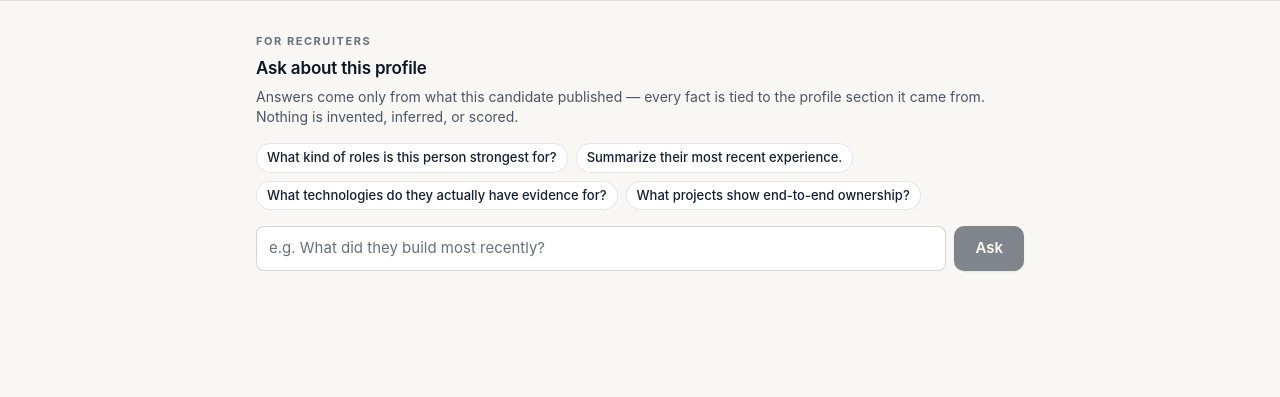
it: RecruiterAsk component › shows suggested questions, accepts one, and cites the sections used
Click the button "What kind of roles is this person strongest for?" at (412,158), box [256,143,568,172]
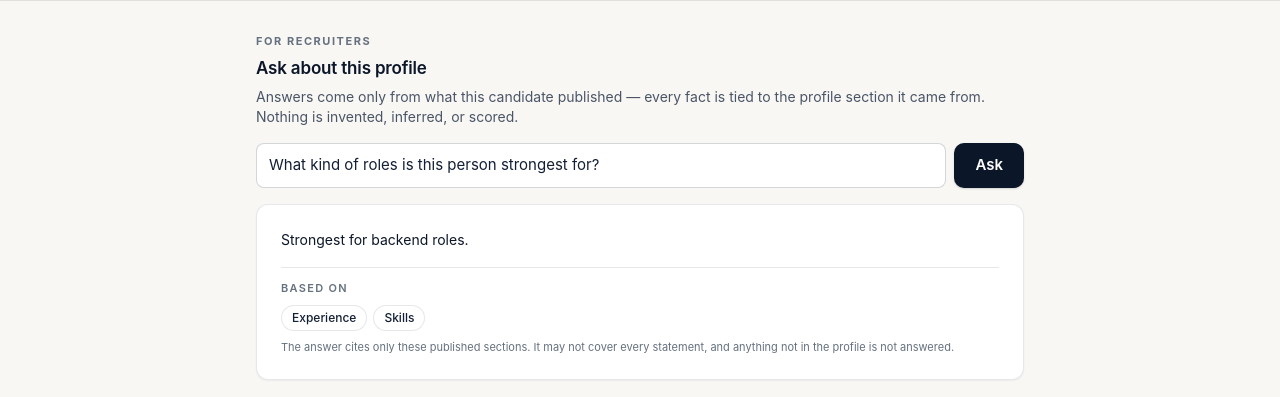
Now the text "Strongest for backend roles." is shown, box [281,230,469,248]
Now the text "Based on" is shown, box [281,281,348,295]
Now the list item "Skills" is shown, box [373,305,425,331]
